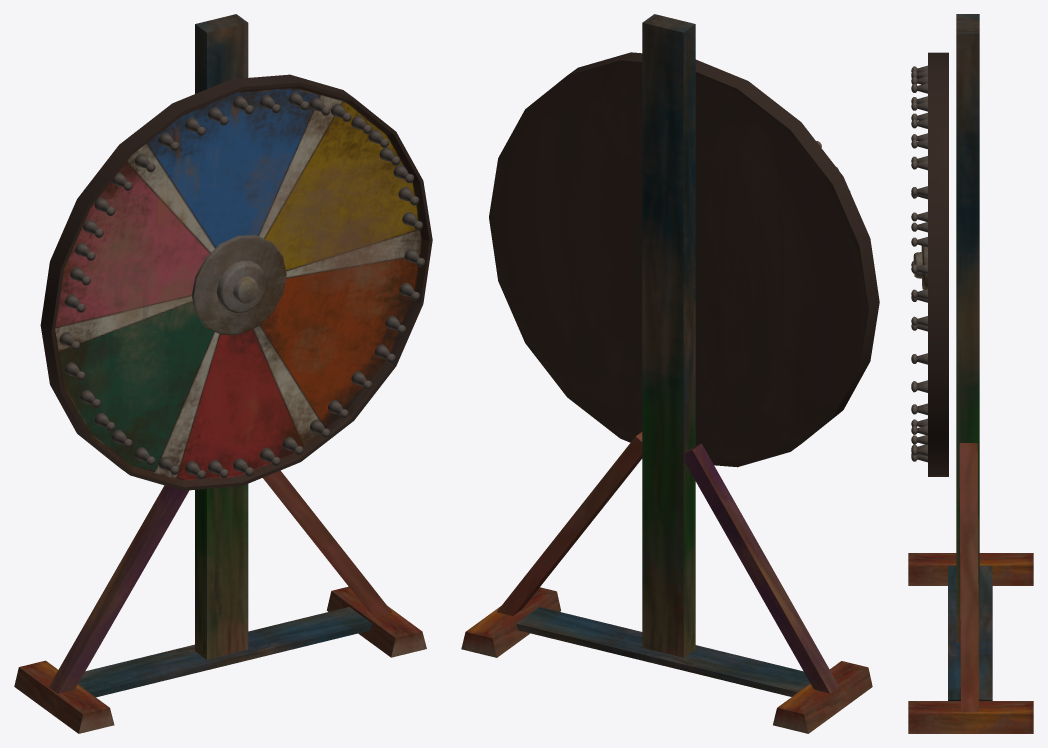
Rendered from WheelOfFortune_Scaled.fbx.
3 renders of one model, left to right at view 1: azimuth 30°, elevation 25°; view 2: azimuth 150°, elevation 25°; view 3: azimuth 270°, elevation 25°, orthographic. The views are drawn at different scales.
Visible parts, largest first — view 1: SpinningWheel_Wheel, SpinninhWheel_SupportBeam1, SpinninhWheel_SupportBeam3, SpinninhWheel_SupportBeam4, SpinningWheel_Inner1, SpinninhWheel_SupportBeam2, SpinninhWheel_SupportBeam5, SpinninhWheel_SupportBeam6, SpinningWheel_Inner2; view 2: SpinningWheel_Wheel, SpinninhWheel_SupportBeam1, SpinninhWheel_SupportBeam3, SpinninhWheel_SupportBeam4, SpinninhWheel_SupportBeam5, SpinninhWheel_SupportBeam2, SpinninhWheel_SupportBeam6; view 3: SpinninhWheel_SupportBeam1, SpinningWheel_Wheel, SpinninhWheel_SupportBeam5, SpinninhWheel_SupportBeam6, SpinninhWheel_SupportBeam3, SpinninhWheel_SupportBeam2.
Boxes of the visible parts, x1,y1,x2,y2 form: SpinningWheel_Wheel: (40,74,432,490); SpinninhWheel_SupportBeam1: (195,14,248,659); SpinninhWheel_SupportBeam3: (78,607,371,697); SpinninhWheel_SupportBeam4: (49,485,189,693); SpinningWheel_Inner1: (192,235,286,334); SpinninhWheel_SupportBeam2: (14,660,114,733); SpinninhWheel_SupportBeam5: (263,470,392,616); SpinninhWheel_SupportBeam6: (327,586,426,657); SpinningWheel_Inner2: (216,260,267,313); SpinningWheel_Wheel: (489,52,879,467); SpinninhWheel_SupportBeam1: (642,14,695,657); SpinninhWheel_SupportBeam3: (516,607,810,696); SpinninhWheel_SupportBeam4: (684,443,838,693); SpinninhWheel_SupportBeam5: (497,432,642,615); SpinninhWheel_SupportBeam2: (773,661,872,733); SpinninhWheel_SupportBeam6: (461,587,560,657); SpinninhWheel_SupportBeam1: (956,14,979,642); SpinningWheel_Wheel: (928,52,948,476); SpinninhWheel_SupportBeam5: (959,443,978,712); SpinninhWheel_SupportBeam6: (908,701,1033,733); SpinninhWheel_SupportBeam3: (948,565,992,700); SpinninhWheel_SupportBeam2: (908,553,1033,585).
Bounding box in the file's own units: 140 × 226 × 40.91.
